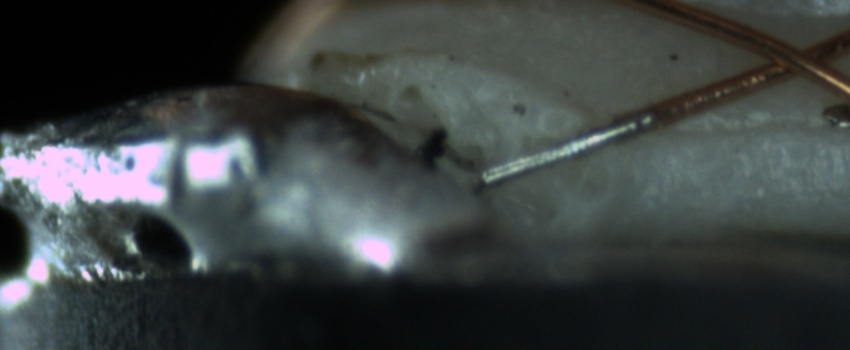CL: (741, 27, 844, 88)
DL: (639, 96, 850, 160)
TS: (474, 112, 653, 186)
